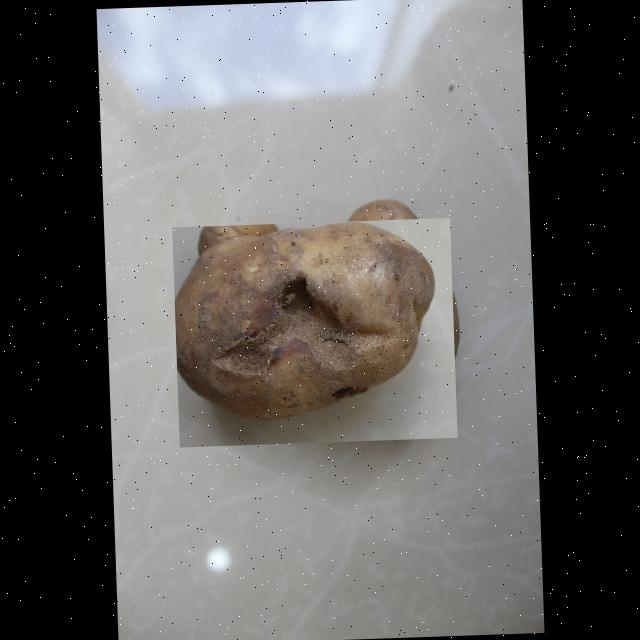Damaged potato: (172, 216, 458, 446)
